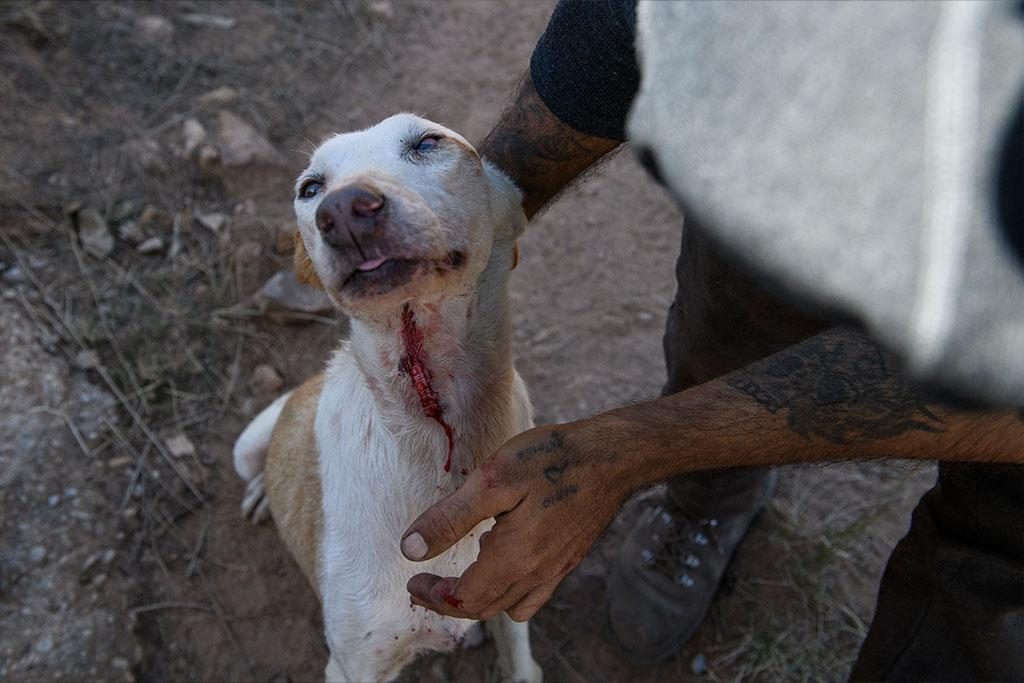cut: (356, 286, 496, 488)
